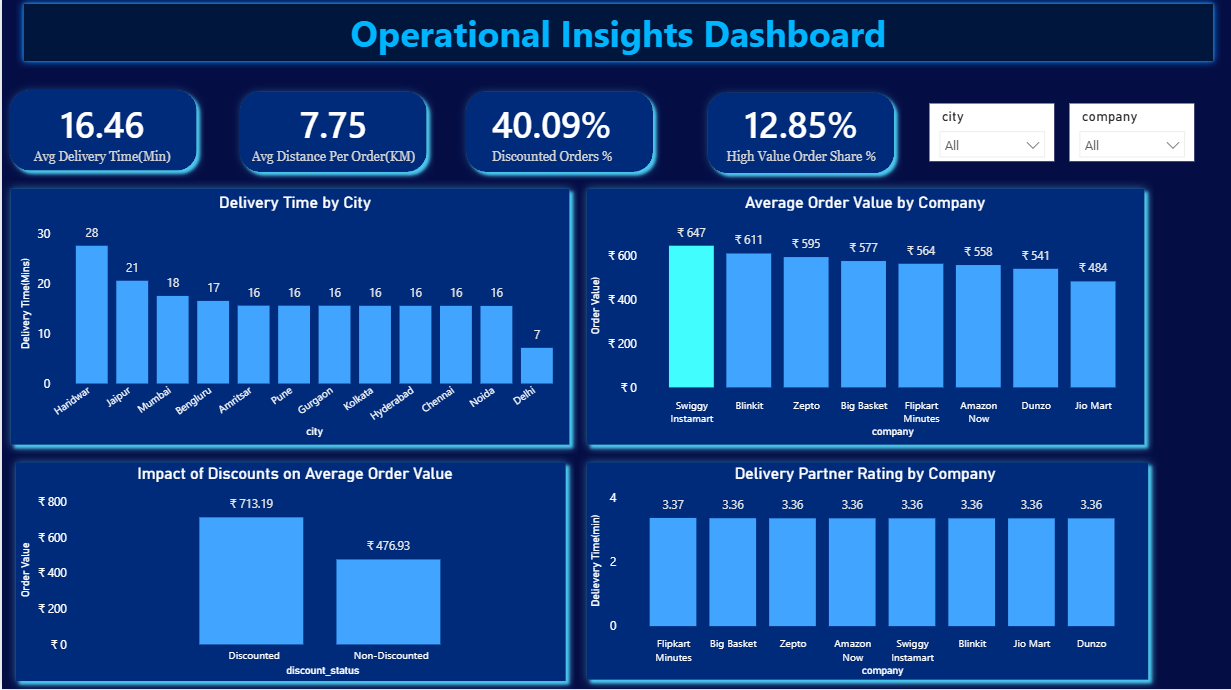

This screenshot's page, from the dashboard's own definition file:
{"tool":"powerbi","page":{"name":"Operational Insights","canvas":[1280,720],"ordinal":1},"visuals":[{"type":"shape","box":[0,89.6,210.4,100],"z":0},{"type":"shape","box":[239,90.9,210.4,100],"z":1000},{"type":"shape","box":[474,90.9,210.4,100],"z":2000},{"type":"shape","box":[724.7,92.2,210.4,100],"z":3000},{"type":"cardVisual","fields":{"Data":["quick_commerce_engineered.avg_delivery_time"]},"box":[14.3,102.6,180.5,77.9],"z":4000},{"type":"cardVisual","fields":{"Data":["quick_commerce_engineered.discount_percent"]},"box":[503.9,102.6,180.5,77.9],"z":5000},{"type":"cardVisual","fields":{"Data":["quick_commerce_engineered.high_value_percent"]},"box":[740.3,102.6,180.5,77.9],"z":6000},{"type":"cardVisual","fields":{"Data":["quick_commerce_engineered.avg_distance"]},"box":[254.5,102.6,180.5,77.9],"z":7000},{"type":"shape","box":[14.4,0,1252.2,75.6],"z":8000},{"type":"shape","box":[5.2,475.3,589.6,245.5],"z":9000},{"type":"shape","box":[0,190.9,598.7,284.4],"z":10000},{"type":"shape","box":[598.7,190.9,597.4,284.4],"z":11000},{"type":"clusteredColumnChart","title":"Delivery Time by City","fields":{"Category":["quick_commerce_engineered.city"],"Y":["quick_commerce_engineered.avg_delivery_time"]},"box":[14.3,203.9,580.5,259.7],"z":12000},{"type":"clusteredColumnChart","title":"Average Order Value by Company","fields":{"Category":["quick_commerce_engineered.company"],"Y":["quick_commerce_engineered.aov"]},"box":[606.5,203.9,580.5,259.7],"z":13000},{"type":"clusteredColumnChart","title":"Impact of Discounts on Average Order Value","fields":{"Category":["quick_commerce_engineered.discount_status"],"Y":["quick_commerce_engineered.aov"]},"box":[14.3,485.7,580.5,226],"z":14000},{"type":"shape","box":[598.7,475.3,601.3,244.2],"z":15000},{"type":"clusteredColumnChart","title":"Delivery Partner Rating by Company","fields":{"Category":["quick_commerce_engineered.company"],"Y":["Avg(quick_commerce_engineered.delivery_partner_rating)"]},"box":[606.5,485.7,580.5,226],"z":16000},{"type":"slicer","fields":{"Values":["quick_commerce_engineered.city"]},"box":[963.6,111.7,129.9,59.7],"z":17000},{"type":"slicer","fields":{"Values":["quick_commerce_engineered.company"]},"box":[1109.1,111.7,129.9,59.7],"z":18000}]}

Visuals, with their boxes in screenshot pixels (x1, y1, x2, y2), scaled from the page's 1280x720 canvas onto the 1231x690 screenshot:
shape: {"left": 0, "top": 86, "right": 202, "bottom": 182}
shape: {"left": 230, "top": 87, "right": 432, "bottom": 183}
shape: {"left": 456, "top": 87, "right": 658, "bottom": 183}
shape: {"left": 697, "top": 88, "right": 899, "bottom": 184}
cardVisual - quick_commerce_engineered.avg_delivery_time: {"left": 14, "top": 98, "right": 187, "bottom": 173}
cardVisual - quick_commerce_engineered.discount_percent: {"left": 485, "top": 98, "right": 658, "bottom": 173}
cardVisual - quick_commerce_engineered.high_value_percent: {"left": 712, "top": 98, "right": 886, "bottom": 173}
cardVisual - quick_commerce_engineered.avg_distance: {"left": 245, "top": 98, "right": 418, "bottom": 173}
shape: {"left": 14, "top": 0, "right": 1218, "bottom": 72}
shape: {"left": 5, "top": 455, "right": 572, "bottom": 689}
shape: {"left": 0, "top": 183, "right": 576, "bottom": 455}
shape: {"left": 576, "top": 183, "right": 1150, "bottom": 455}
"Delivery Time by City" clusteredColumnChart: {"left": 14, "top": 195, "right": 572, "bottom": 444}
"Average Order Value by Company" clusteredColumnChart: {"left": 583, "top": 195, "right": 1142, "bottom": 444}
"Impact of Discounts on Average Order Value" clusteredColumnChart: {"left": 14, "top": 465, "right": 572, "bottom": 682}
shape: {"left": 576, "top": 455, "right": 1154, "bottom": 689}
"Delivery Partner Rating by Company" clusteredColumnChart: {"left": 583, "top": 465, "right": 1142, "bottom": 682}
slicer - quick_commerce_engineered.city: {"left": 927, "top": 107, "right": 1052, "bottom": 164}
slicer - quick_commerce_engineered.company: {"left": 1067, "top": 107, "right": 1192, "bottom": 164}
